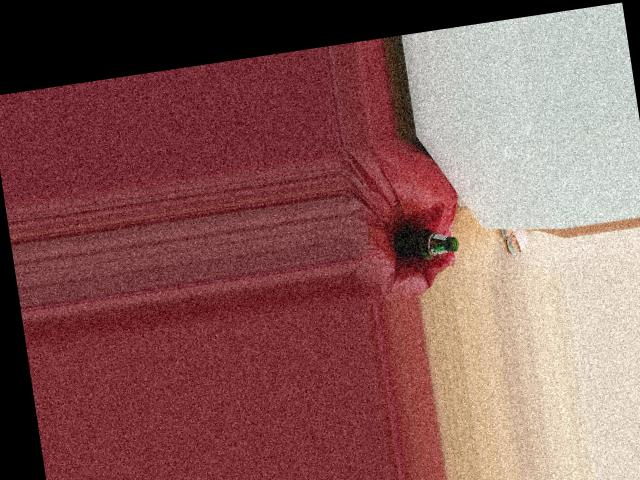beer: (392, 221, 459, 263)
